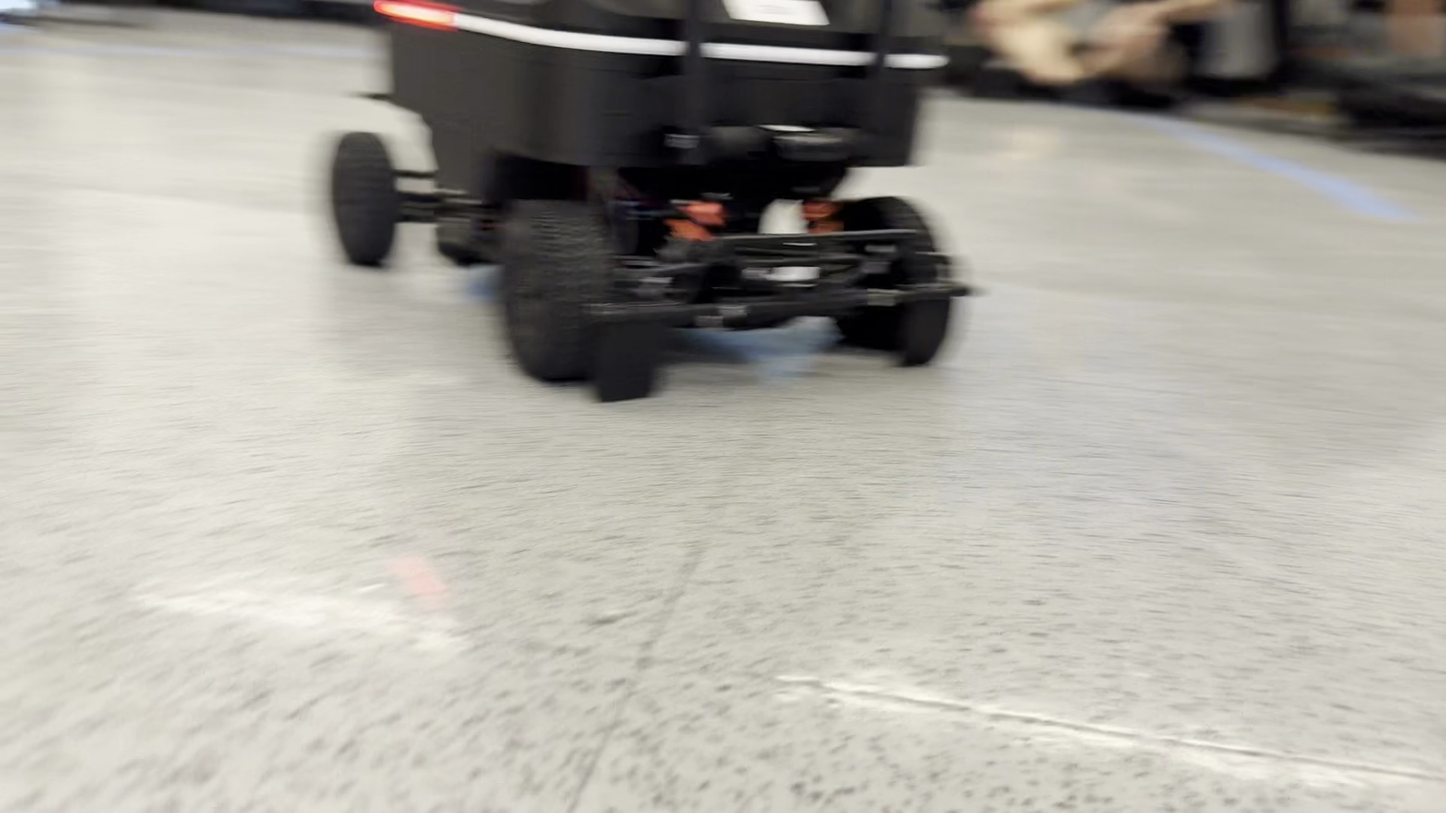racecar: (323, 0, 975, 406)
